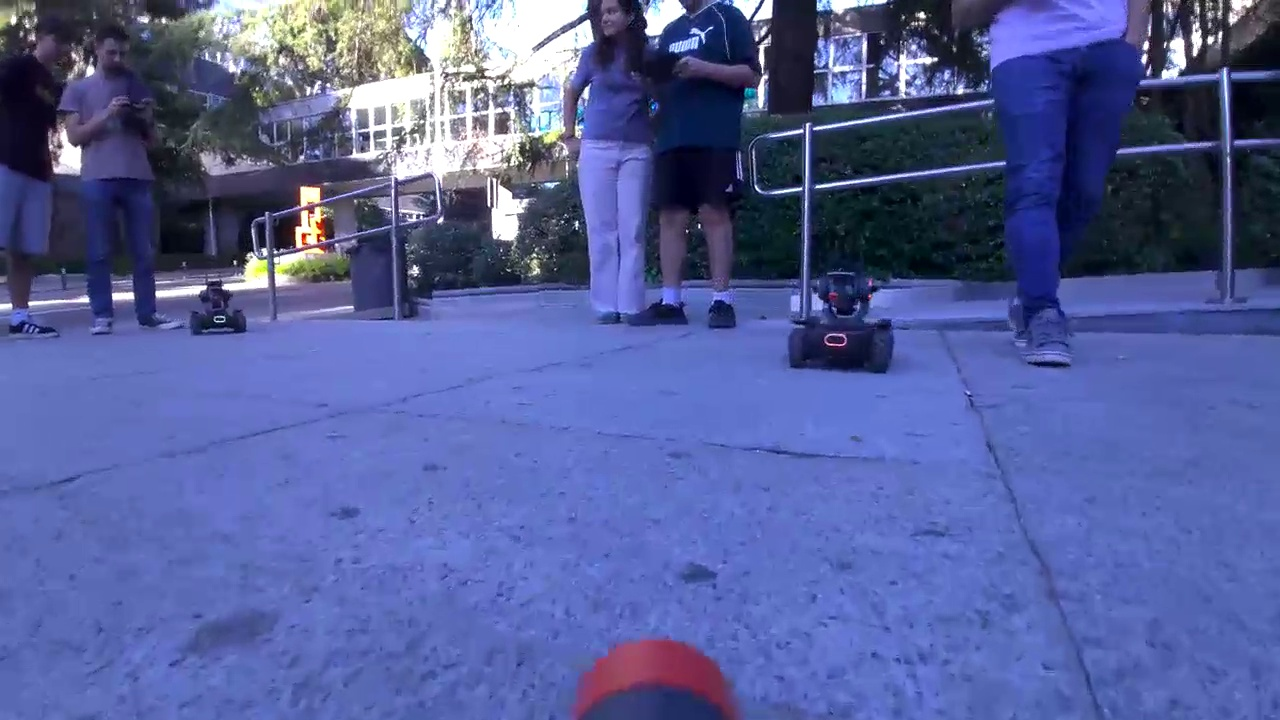robot: (786, 264, 895, 375), (188, 280, 247, 336)
